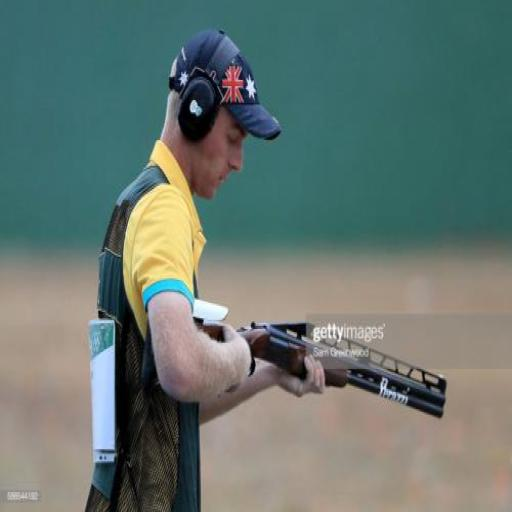shooting: (83, 26, 329, 511)
